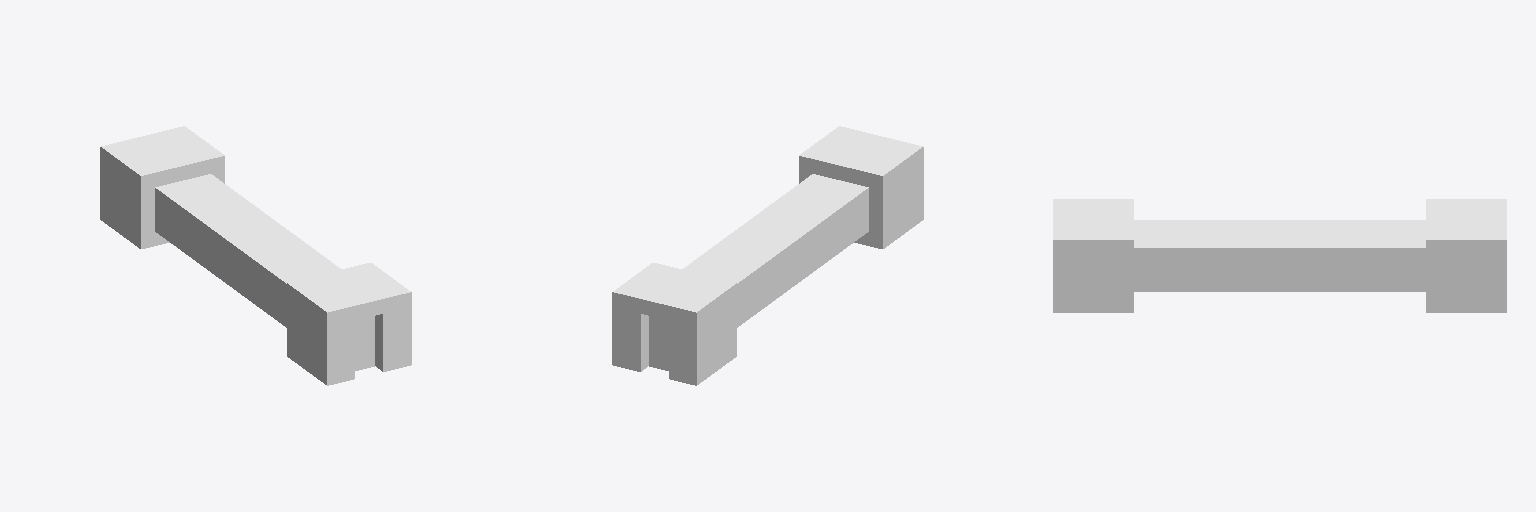
File: Bone.obj
3 views of the same model, side by side, from view 1: azimuth 30°, elevation 25°; view 2: azimuth 150°, elevation 25°; view 3: azimuth 270°, elevation 25° (orthographic).
Size of the model in its own units: 6 by 5 by 28.